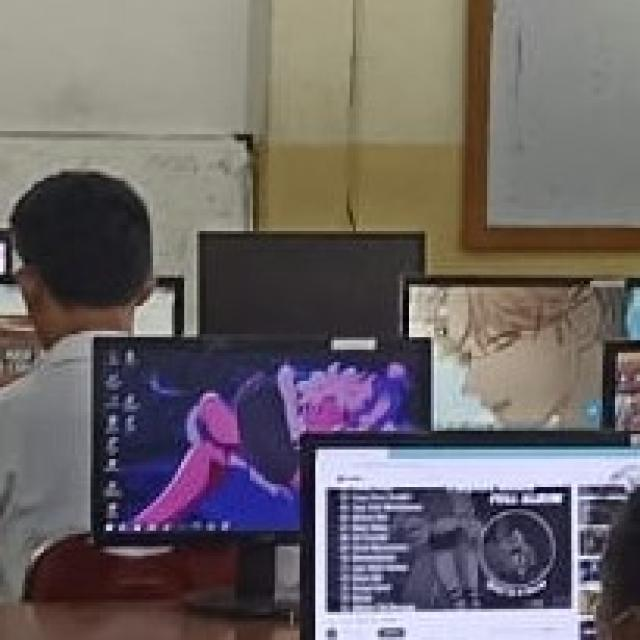offscreen: (200, 234, 424, 338)
onscreen: (92, 339, 430, 541), (315, 449, 640, 640), (410, 285, 622, 429)
